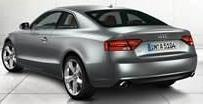back_view: (87, 32, 199, 80)
backlight: (99, 36, 145, 53)
side_glass: (25, 11, 78, 31)
